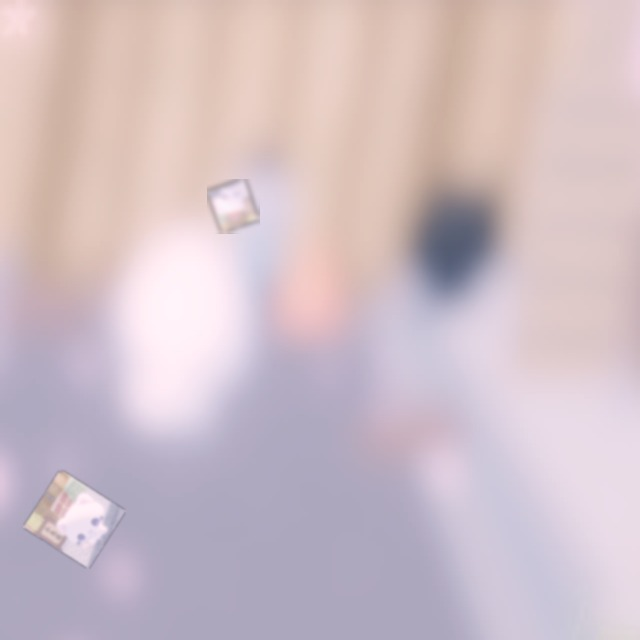urso_branco: (23, 469, 126, 569), (207, 179, 260, 234)
